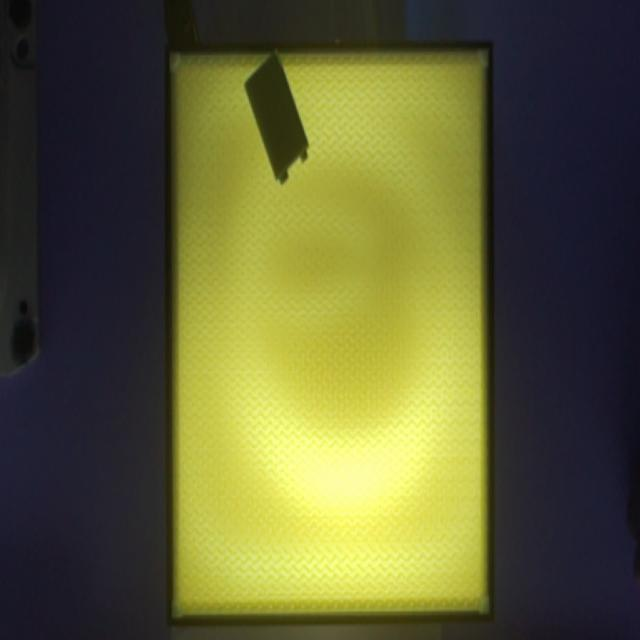bateria: (244, 49, 309, 186)
mesa: (166, 40, 494, 627)
